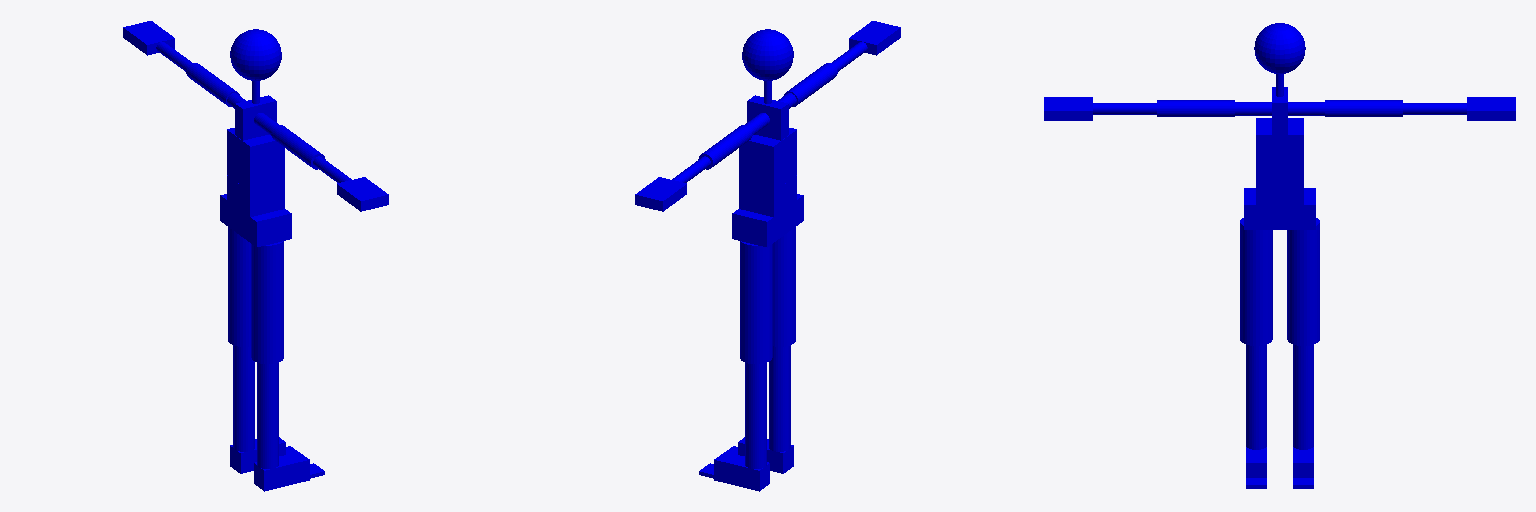
--- What the picture shows (computed from the rendered views, not written in the file) ---
The picture shows the robot from 3 angles, left to right: view 1: azimuth 30°, elevation 25°; view 2: azimuth 150°, elevation 25°; view 3: azimuth 270°, elevation 25°; orthographic projection.
Robot: XSensStyleModel_template — 67 links, 66 joints (66 revolute); root link Pelvis; default pose: all joints at 0.
Visible links, largest first — view 1: RightUpperLeg, LeftUpperLeg, RightLowerLeg, LeftLowerLeg, Head, Pelvis, T12, L5, RightFoot, L3, T8, RightHand (+4 smaller); view 2: LeftUpperLeg, RightUpperLeg, LeftLowerLeg, RightLowerLeg, Head, Pelvis, T12, L5, LeftFoot, L3, T8, LeftHand (+4 smaller); view 3: RightUpperLeg, LeftUpperLeg, Pelvis, RightLowerLeg, LeftLowerLeg, Head, T12, RightUpperArm, LeftUpperArm, L5, RightHand, LeftHand (+6 smaller).
Boxes of the visible links, x1,y1,x2,y2 form: RightUpperLeg: (251,241,283,363); LeftUpperLeg: (228,227,250,346); RightLowerLeg: (257,363,278,468); LeftLowerLeg: (233,345,254,451); Head: (230,29,281,80); Pelvis: (220,194,291,247); T12: (227,128,284,169); L5: (227,175,284,216); RightFoot: (254,452,309,491); L3: (227,153,284,191); T8: (235,95,276,140); RightHand: (337,177,388,211); LeftUpperLeg: (740,241,772,363); RightUpperLeg: (773,227,795,346); LeftLowerLeg: (745,363,766,468); RightLowerLeg: (769,345,790,451); Head: (742,29,793,80); Pelvis: (732,194,803,247); T12: (739,128,796,169); L5: (739,175,796,216); LeftFoot: (714,452,769,491); L3: (739,153,796,191); T8: (747,95,788,140); LeftHand: (635,177,686,211); RightUpperLeg: (1240,218,1272,345); LeftUpperLeg: (1287,218,1319,345); Pelvis: (1244,188,1315,229); RightLowerLeg: (1246,345,1266,449); LeftLowerLeg: (1293,345,1313,449); Head: (1254,23,1305,73); T12: (1256,118,1303,156); RightUpperArm: (1157,100,1234,116); LeftUpperArm: (1325,100,1402,116); L5: (1256,180,1303,204); RightHand: (1044,97,1092,120); LeftHand: (1467,97,1515,120).
Bounding box of the posed robot: 0.2938 × 1.63 × 1.69 m (x, y, z).
Geometry: primitives only (box / cylinder / sphere), no mesh files.

robot.urdf — XSensStyleModel_template:
<!--URDF MODEL 66 DoFs-->

<robot name="XSensStyleModel_template">

<material name="blue">
    <color rgba="0 0 1.0 1"/>
</material>

<!--To open this model with Gazebo replace the null masses, inertias and dimensions of the 'fake links f1 and f2'-->
    <!--LINKS-->
	<!--Link base (1)-->
	<link name="Pelvis">
        <inertial>
            <mass value="4.976"/>
			<!--COM origin wrt pHipOrigin-->
            <origin xyz="0           0    0.049743" rpy="0 0 0" />
            <inertia ixx="0.029678" iyy="0.011854" izz="0.033653" ixy="0" ixz="0" iyz="0"/>
        </inertial>

        <visual>
			<!--box origin wrt pHipOrigin-->
            <origin xyz="0           0    0.049743" rpy="0 0 0" />
            <geometry>
                <box size="0.13815     0.24914    0.097469"/>
            </geometry>
						<material name="blue"/>
        </visual>

        <collision>
			<!--box origin wrt pHipOrigin-->
            <origin xyz="0           0    0.049743" rpy="0 0 0" />
            <geometry>
                <box size="0.13815     0.24914    0.097469"/>
            </geometry>
        </collision>

    </link>
    <!--Chain from (2) to (7)-->
	<link name="L5_f1">
        <inertial>
            <mass value="0"/>
            <origin xyz="0 0 0" rpy="0 0 0" />
            <inertia ixx="0" iyy="0" izz="0" ixy="0" ixz="0" iyz="0"/>
        </inertial>
    </link>
	<link name="L5_f2">
        <inertial>
            <mass value="0"/>
            <origin xyz="0 0 0" rpy="0 0 0" />
            <inertia ixx="0" iyy="0" izz="0" ixy="0" ixz="0" iyz="0"/>
        </inertial>
    </link>
	<link name="L5">
        <inertial>
            <mass value="6.3444"/>
			<!--COM origin wrt jL5S1-->
            <origin xyz="0           0    0.047552" rpy="0 0 0" />
            <inertia ixx="0.018868" iyy="0.014872" izz="0.024177" ixy="0" ixz="0" iyz="0"/>
        </inertial>

        <visual>
			<!--box origin origin wrt jL5S1-->
            <origin xyz="0           0    0.047552" rpy="0 0 0" />
            <geometry>
                <box size="0.13815     0.16323    0.095104"/>
            </geometry>
						<material name="blue"/>
        </visual>

        <collision>
			<!--box origin origin wrt jL5S1-->
            <origin xyz="0           0    0.047552" rpy="0 0 0" />
            <geometry>
                <box size="0.13815     0.16323    0.095104"/>
            </geometry>
        </collision>
    </link>
	<link name="L3_f1">
        <inertial>
            <mass value="0"/>
            <origin xyz="0 0 0" rpy="0 0 0" />
            <inertia ixx="0" iyy="0" izz="0" ixy="0" ixz="0" iyz="0"/>
        </inertial>
    </link>
	<link name="L3_f2">
        <inertial>
            <mass value="0"/>
            <origin xyz="0 0 0" rpy="0 0 0" />
            <inertia ixx="0" iyy="0" izz="0" ixy="0" ixz="0" iyz="0"/>
        </inertial>
    </link>
	<link name="L3">
        <inertial>
            <mass value="6.3444"/>
			<!--COM origin wrt jL4L3-->
            <origin xyz="0           0    0.042958" rpy="0 0 0" />
            <inertia ixx="0.017989" iyy="0.013993" izz="0.024177" ixy="0" ixz="0" iyz="0"/>
        </inertial>

        <visual>
			<!--box origin origin wrt jL4L3-->
            <origin xyz="0           0    0.042958" rpy="0 0 0" />
            <geometry>
                <box size="0.13815     0.16323    0.085916"/>
            </geometry>
						<material name="blue"/>
        </visual>

        <collision>
			<!--box origin origin wrt jL4L3-->
            <origin xyz="0           0    0.042958" rpy="0 0 0" />
            <geometry>
                <box size="0.13815     0.16323    0.085916"/>
            </geometry>
        </collision>
    </link>
	<link name="T12_f1">
        <inertial>
            <mass value="0"/>
            <origin xyz="0 0 0" rpy="0 0 0" />
            <inertia ixx="0" iyy="0" izz="0" ixy="0" ixz="0" iyz="0"/>
        </inertial>
    </link>
	<link name="T12_f2">
        <inertial>
            <mass value="0"/>
            <origin xyz="0 0 0" rpy="0 0 0" />
            <inertia ixx="0" iyy="0" izz="0" ixy="0" ixz="0" iyz="0"/>
        </inertial>
    </link>
	<link name="T12">
        <inertial>
            <mass value="6.3444"/>
			<!--COM origin wrt jL1T12-->
            <origin xyz="0           0    0.042958" rpy="0 0 0" />
            <inertia ixx="0.017989" iyy="0.013993" izz="0.024177" ixy="0" ixz="0" iyz="0"/>
        </inertial>

        <visual>
			<!--box origin origin wrt jL1T12-->
            <origin xyz="0           0    0.042958" rpy="0 0 0" />
            <geometry>
                <box size="0.13815     0.16323    0.085916"/>
            </geometry>
						<material name="blue"/>
        </visual>

        <collision>
			<!--box origin origin wrt jL1T12-->
            <origin xyz="0           0    0.042958" rpy="0 0 0" />
            <geometry>
                <box size="0.13815     0.16323    0.085916"/>
            </geometry>
        </collision>
    </link>
	<link name="T8_f1">
        <inertial>
            <mass value="0"/>
            <origin xyz="0 0 0" rpy="0 0 0" />
            <inertia ixx="0" iyy="0" izz="0" ixy="0" ixz="0" iyz="0"/>
        </inertial>
    </link>
	<link name="T8_f2">
        <inertial>
            <mass value="0"/>
            <origin xyz="0 0 0" rpy="0 0 0" />
            <inertia ixx="0" iyy="0" izz="0" ixy="0" ixz="0" iyz="0"/>
        </inertial>
    </link>
	<link name="T8">
        <inertial>
            <mass value="2.488"/>
			<!--COM origin wrt jT9T8-->
            <origin xyz="0           0    0.059874" rpy="0 0 0" />
            <inertia ixx="0.0035473" iyy="0.0067278" izz="0.0043289" ixy="0" ixz="0" iyz="0"/>
        </inertial>

        <visual>
			<!--box origin wrt jT9T8-->
            <origin xyz="0           0    0.059874" rpy="0 0 0" />
            <geometry>
                <box size="0.13457    0.052626     0.11975"/>
            </geometry>
						<material name="blue"/>
        </visual>

        <collision>
			<!--box origin wrt jT9T8-->
            <origin xyz="0           0    0.059874" rpy="0 0 0" />
            <geometry>
                <box size="0.13457    0.052626     0.11975"/>
            </geometry>
        </collision>

    </link>
	<link name="Neck_f1">
        <inertial>
            <mass value="0"/>
            <origin xyz="0 0 0" rpy="0 0 0" />
            <inertia ixx="0" iyy="0" izz="0" ixy="0" ixz="0" iyz="0"/>
        </inertial>
    </link>
	<link name="Neck_f2">
        <inertial>
            <mass value="0"/>
            <origin xyz="0 0 0" rpy="0 0 0" />
            <inertia ixx="0" iyy="0" izz="0" ixy="0" ixz="0" iyz="0"/>
        </inertial>
    </link>
	<link name="Neck">
        <inertial>
            <mass value="0.7464"/>
			<!--COM origin wrt jT1C7-->
            <origin xyz="0           0    0.044626" rpy="0 0 0" />
            <inertia ixx="0.0006461" iyy="0.0006461" izz="0.00030124" ixy="0" ixz="0" iyz="0"/>
        </inertial>

        <visual>
			<!--box origin wrt jT1C7-->
            <origin xyz="0           0    0.044626" rpy="0 0 0" />
            <geometry>
		<cylinder length="0.089252" radius="0.014205"/>
            </geometry>
						<material name="blue"/>
        </visual>

        <collision>
			<!--box origin wrt jT1C7-->
            <origin xyz="0           0    0.044626" rpy="0 0 0" />
            <geometry>
                <cylinder length="0.089252" radius="0.014205"/>
            </geometry>
        </collision>
    </link>
	<link name="Head_f1">
        <inertial>
            <mass value="0"/>
            <origin xyz="0 0 0" rpy="0 0 0" />
            <inertia ixx="0" iyy="0" izz="0" ixy="0" ixz="0" iyz="0"/>
        </inertial>
    </link>
	<link name="Head_f2">
        <inertial>
            <mass value="0"/>
            <origin xyz="0 0 0" rpy="0 0 0" />
            <inertia ixx="0" iyy="0" izz="0" ixy="0" ixz="0" iyz="0"/>
        </inertial>
    </link>
	<link name="Head">
        <inertial>
            <mass value="2.2392"/>
			<!--COM origin wrt jC1Head-->
            <origin xyz="0           0    0.089005" rpy="0 0 0" />
            <inertia ixx="0.0070955" iyy="0.0070955" izz="0.0070955" ixy="0" ixz="0" iyz="0"/>
        </inertial>

        <visual>
			<!--boc origin wrt jC1Head-->
            <origin xyz="0           0    0.089005" rpy="0 0 0" />
            <geometry>
                <sphere radius="0.089005"/>
            </geometry>
						<material name="blue"/>
        </visual>

        <collision>
			<!--box origin wrt jC1Head-->
            <origin xyz="0           0    0.089005" rpy="0 0 0" />
            <geometry>
                <sphere radius="0.089005"/>
            </geometry>
        </collision>

    </link>
	<!--Chain from (8) to (11)-->
	<link name="RightShoulder_f1">
        <inertial>
            <mass value="0"/>
            <origin xyz="0 0 0" rpy="0 0 0" />
            <inertia ixx="0" iyy="0" izz="0" ixy="0" ixz="0" iyz="0"/>
        </inertial>
    </link>
	<link name="RightShoulder_f2">
        <inertial>
            <mass value="0"/>
            <origin xyz="0 0 0" rpy="0 0 0" />
            <inertia ixx="0" iyy="0" izz="0" ixy="0" ixz="0" iyz="0"/>
        </inertial>
    </link>
	<link name="RightShoulder">
        <inertial>
            <mass value="1.9282"/>
			<!--COM origin wrt jRightC7Shoulder-->
            <origin xyz="0   -0.065233           0" rpy="0 0 0" />
            <inertia ixx="0.0030029" iyy="0.00053578" izz="0.0030029" ixy="0" ixz="0" iyz="0"/>
        </inertial>

        <visual>
			<!--box origin wrt jRightC7Shoulder. RPY rotated of pi/2.-->
            <origin xyz="0   -0.065233           0" rpy="1.5708 0 0" />
            <geometry>
                <cylinder length="0.13047" radius="0.023574"/>
            </geometry>
						<material name="blue"/>
        </visual>

        <collision>
			<!--box origin wrt jRightC7Shoulder. RPY rotated of pi/2.-->
            <origin xyz="0   -0.065233           0" rpy="1.5708 0 0" />
            <geometry>
                <cylinder length="0.13047" radius="0.023574"/>
            </geometry>
        </collision>

    </link>
	<link name="RightUpperArm_f1">
        <inertial>
            <mass value="0"/>
            <origin xyz="0 0 0" rpy="0 0 0" />
            <inertia ixx="0" iyy="0" izz="0" ixy="0" ixz="0" iyz="0"/>
        </inertial>
    </link>
	<link name="RightUpperArm_f2">
        <inertial>
            <mass value="0"/>
            <origin xyz="0 0 0" rpy="0 0 0" />
            <inertia ixx="0" iyy="0" izz="0" ixy="0" ixz="0" iyz="0"/>
        </inertial>
    </link>
    <link name="RightUpperArm">
        <inertial>
            <mass value="1.866"/>
			<!--COM origin wrt jRightShoulder-->
            <origin xyz="0    -0.13497           0" rpy="0 0 0" />
            <inertia ixx="0.011736" iyy="0.00080917" izz="0.011736" ixy="0" ixz="0" iyz="0"/>
        </inertial>

        <visual>
			<!--box origin wrt jRightShoulder. RPY rotated of pi/2.-->
            <origin xyz="0    -0.13497           0" rpy="1.5708 0 0" />
            <geometry>
                <cylinder length="0.26994" radius="0.029449"/>
            </geometry>
						<material name="blue"/>
        </visual>

        <collision>
			<!--box origin wrt jRightShoulder. RPY rotated of pi/2.-->
            <origin xyz="0    -0.13497           0" rpy="1.5708 0 0" />
            <geometry>
                <cylinder length="0.26994" radius="0.029449"/>
            </geometry>
        </collision>

    </link>
	<link name="RightForeArm_f1">
        <inertial>
            <mass value="0"/>
            <origin xyz="0 0 0" rpy="0 0 0" />
            <inertia ixx="0" iyy="0" izz="0" ixy="0" ixz="0" iyz="0"/>
        </inertial>
    </link>
	<link name="RightForeArm_f2">
        <inertial>
            <mass value="0"/>
            <origin xyz="0 0 0" rpy="0 0 0" />
            <inertia ixx="0" iyy="0" izz="0" ixy="0" ixz="0" iyz="0"/>
        </inertial>
    </link>
	<link name="RightForeArm">
        <inertial>
            <mass value="1.244"/>
			<!--COM origin wrt jRightElbow-->
            <origin xyz="0    -0.11124           0" rpy="0 0 0" />
            <inertia ixx="0.0052508" iyy="0.00023975" izz="0.0052508" ixy="0" ixz="0" iyz="0"/>
        </inertial>

        <visual>
			<!--box origin wrt jRightElbow. RPY rotated of pi/2.-->
            <origin xyz="0    -0.11124           0" rpy="1.5708 0 0" />
            <geometry>
                <cylinder length="0.22247" radius="0.019633"/>
            </geometry>
						<material name="blue"/>
        </visual>

        <collision>
			<!--box origin wrt jRightElbow. RPY rotated of pi/2.-->
            <origin xyz="0    -0.11124           0" rpy="1.5708 0 0" />
            <geometry>
                <cylinder length="0.22247" radius="0.019633"/>
            </geometry>
        </collision>

    </link>
	<link name="RightHand_f1">
        <inertial>
            <mass value="0"/>
            <origin xyz="0 0 0" rpy="0 0 0" />
            <inertia ixx="0" iyy="0" izz="0" ixy="0" ixz="0" iyz="0"/>
        </inertial>
    </link>
	<link name="RightHand_f2">
        <inertial>
            <mass value="0"/>
            <origin xyz="0 0 0" rpy="0 0 0" />
            <inertia ixx="0" iyy="0" izz="0" ixy="0" ixz="0" iyz="0"/>
        </inertial>
    </link>
	<link name="RightHand">
        <inertial>
            <mass value="0.3732"/>
			<!--COM origin wrt jRightWrist-->
            <origin xyz="0   -0.083588           0" rpy="0 0 0" />
            <inertia ixx="0.00091713" iyy="0.00043425" izz="0.0012555" ixy="0" ixz="0" iyz="0"/>
        </inertial>

        <visual>
			<!--box origin wrt jRightWrist-->
            <origin xyz="0   -0.083588           0" rpy="0 0 0" />
            <geometry>
                <box size="0.11145     0.16718    0.039266"/>
            </geometry>
						<material name="blue"/>
        </visual>

        <collision>
			<!--box origin wrt jRightWrist-->
            <origin xyz="0   -0.083588           0" rpy="0 0 0" />
            <geometry>
                <box size="0.11145     0.16718    0.039266"/>
            </geometry>
        </collision>

    </link>
	<!--Chain from (12) to (15)-->
	<link name="LeftShoulder_f1">
        <inertial>
            <mass value="0"/>
            <origin xyz="0 0 0" rpy="0 0 0" />
            <inertia ixx="0" iyy="0" izz="0" ixy="0" ixz="0" iyz="0"/>
        </inertial>
    </link>
	<link name="LeftShoulder_f2">
        <inertial>
            <mass value="0"/>
            <origin xyz="0 0 0" rpy="0 0 0" />
            <inertia ixx="0" iyy="0" izz="0" ixy="0" ixz="0" iyz="0"/>
        </inertial>
    </link>
	<link name="LeftShoulder">
        <inertial>
            <mass value="1.9282"/>
			<!--COM origin wrt jLeftC7Shoulder-->
            <origin xyz="0    0.065233           0" rpy="0 0 0" />
            <inertia ixx="0.0030029" iyy="0.00053578" izz="0.0030029" ixy="0" ixz="0" iyz="0"/>
        </inertial>

        <visual>
			<!--box origin wrt jLeftC7Shoulder. RPY rotated of pi/2.-->
            <origin xyz="0    0.065233           0" rpy="1.5708 0 0" />
            <geometry>
                <cylinder length="0.13047" radius="0.023574"/>
            </geometry>
						<material name="blue"/>
        </visual>

        <collision>
			<!--box origin wrt jLeftC7Shoulder. RPY rotated of pi/2.-->
            <origin xyz="0    0.065233           0" rpy="1.5708 0 0" />
            <geometry>
                <cylinder length="0.13047" radius="0.023574"/>
            </geometry>
        </collision>

    </link>
	<link name="LeftUpperArm_f1">
        <inertial>
            <mass value="0"/>
            <origin xyz="0 0 0" rpy="0 0 0" />
            <inertia ixx="0" iyy="0" izz="0" ixy="0" ixz="0" iyz="0"/>
        </inertial>
    </link>
	<link name="LeftUpperArm_f2">
        <inertial>
            <mass value="0"/>
            <origin xyz="0 0 0" rpy="0 0 0" />
            <inertia ixx="0" iyy="0" izz="0" ixy="0" ixz="0" iyz="0"/>
        </inertial>
    </link>
	<link name="LeftUpperArm">
        <inertial>
            <mass value="1.866"/>
			<!--COM origin wrt jLeftShoulder-->
            <origin xyz="0     0.13497           0" rpy="0 0 0" />
            <inertia ixx="0.011736" iyy="0.00080917" izz="0.011736" ixy="0" ixz="0" iyz="0"/>
        </inertial>

        <visual>
			<!--box origin wrt jLeftShoulder. RPY rotated of pi/2.-->
            <origin xyz="0     0.13497           0" rpy="1.5708 0 0" />
            <geometry>
                <cylinder length="0.26994" radius="0.029449"/>
            </geometry>
						<material name="blue"/>
        </visual>

        <collision>
			<!--box origin wrt jLeftShoulder. RPY rotated of pi/2.-->
            <origin xyz="0     0.13497           0" rpy="1.5708 0 0" />
            <geometry>
                <cylinder length="0.26994" radius="0.029449"/>
            </geometry>
        </collision>

    </link>
	<link name="LeftForeArm_f1">
        <inertial>
            <mass value="0"/>
            <origin xyz="0 0 0" rpy="0 0 0" />
            <inertia ixx="0" iyy="0" izz="0" ixy="0" ixz="0" iyz="0"/>
        </inertial>
    </link>
	<link name="LeftForeArm_f2">
        <inertial>
            <mass value="0"/>
            <origin xyz="0 0 0" rpy="0 0 0" />
            <inertia ixx="0" iyy="0" izz="0" ixy="0" ixz="0" iyz="0"/>
        </inertial>
    </link>
	<link name="LeftForeArm">
        <inertial>
            <mass value="1.244"/>
			<!--COM origin wrt jLeftElbow-->
            <origin xyz="0     0.11124           0" rpy="0 0 0" />
            <inertia ixx="0.0052508" iyy="0.00023975" izz="0.0052508" ixy="0" ixz="0" iyz="0"/>
        </inertial>

        <visual>
			<!--box origin wrt jLeftElbow. RPY rotated of pi/2.-->
            <origin xyz="0     0.11124           0" rpy="1.5708 0 0" />
            <geometry>
                <cylinder length="0.22247" radius="0.019633"/>
            </geometry>
						<material name="blue"/>
        </visual>

        <collision>
			<!--box origin wrt jLeftElbow. RPY rotated of pi/2.-->
            <origin xyz="0     0.11124           0" rpy="1.5708 0 0" />
            <geometry>
                <cylinder length="0.22247" radius="0.019633"/>
            </geometry>
        </collision>

    </link>
	<link name="LeftHand_f1">
        <inertial>
            <mass value="0"/>
            <origin xyz="0 0 0" rpy="0 0 0" />
            <inertia ixx="0" iyy="0" izz="0" ixy="0" ixz="0" iyz="0"/>
        </inertial>
    </link>
	<link name="LeftHand_f2">
        <inertial>
            <mass value="0"/>
            <origin xyz="0 0 0" rpy="0 0 0" />
            <inertia ixx="0" iyy="0" izz="0" ixy="0" ixz="0" iyz="0"/>
        </inertial>
    </link>
	<link name="LeftHand">
        <inertial>
            <mass value="0.3732"/>
			<!--COM origin wrt jLeftWrist-->
            <origin xyz="0    0.083588           0" rpy="0 0 0" />
            <inertia ixx="0.00091713" iyy="0.00043425" izz="0.0012555" ixy="0" ixz="0" iyz="0"/>
        </inertial>

        <visual>
			<!--COM origin wrt jLeftWrist-->
            <origin xyz="0    0.083588           0" rpy="0 0 0" />
            <geometry>
                <box size="0.11145     0.16718    0.039266"/>
            </geometry>
						<material name="blue"/>
        </visual>

        <collision>
			<!--COM origin wrt jLeftWrist-->
            <origin xyz="0    0.083588           0" rpy="0 0 0" />
            <geometry>
                <box size="0.11145     0.16718    0.039266"/>
            </geometry>
        </collision>

    </link>
	<!--Chain from (16) to (19)-->
	<link name="RightUpperLeg_f1">
        <inertial>
            <mass value="0"/>
            <origin xyz="0 0 0" rpy="0 0 0" />
            <inertia ixx="0" iyy="0" izz="0" ixy="0" ixz="0" iyz="0"/>
        </inertial>
    </link>
	<link name="RightUpperLeg_f2">
        <inertial>
            <mass value="0"/>
            <origin xyz="0 0 0" rpy="0 0 0" />
            <inertia ixx="0" iyy="0" izz="0" ixy="0" ixz="0" iyz="0"/>
        </inertial>
    </link>
    <link name="RightUpperLeg">
        <inertial>
            <mass value="7.775"/>
			<!--COM origin wrt jRightHip-->
            <origin xyz="0           0    -0.22449" rpy="0 0 0" />
            <inertia ixx="0.13681" iyy="0.13681" izz="0.01241" ixy="0" ixz="0" iyz="0"/>
        </inertial>

        <visual>
			<!--box origin wrt jRightHip-->
            <origin xyz="0           0    -0.22449" rpy="0 0 0" />
            <geometry>
                <cylinder length="0.44898" radius="0.0565"/>
            </geometry>
						<material name="blue"/>
        </visual>

        <collision>
			<!--box origin wrt jRightHip-->
            <origin xyz="0           0    -0.22449" rpy="0 0 0" />
            <geometry>
                <cylinder length="0.44898" radius="0.0565"/>
            </geometry>
        </collision>

    </link>
	<link name="RightLowerLeg_f1">
        <inertial>
            <mass value="0"/>
            <origin xyz="0 0 0" rpy="0 0 0" />
            <inertia ixx="0" iyy="0" izz="0" ixy="0" ixz="0" iyz="0"/>
        </inertial>
    </link>
	<link name="RightLowerLeg_f2">
        <inertial>
            <mass value="0"/>
            <origin xyz="0 0 0" rpy="0 0 0" />
            <inertia ixx="0" iyy="0" izz="0" ixy="0" ixz="0" iyz="0"/>
        </inertial>
    </link>
    <link name="RightLowerLeg">
        <inertial>
            <mass value="2.2703"/>
			<!--COM origin wrt jRightKnee-->
            <origin xyz="0           0    -0.20304" rpy="0 0 0" />
            <inertia ixx="0.031992" iyy="0.031992" izz="0.0015867" ixy="0" ixz="0" iyz="0"/>
        </inertial>

        <visual>
			<!--box origin wrt jRightKnee-->
            <origin xyz="0           0    -0.20304" rpy="0 0 0" />
            <geometry>
                <cylinder length="0.40608" radius="0.037388"/>
            </geometry>
						<material name="blue"/>
        </visual>

        <collision>
			<!--box origin wrt jRightKnee-->
            <origin xyz="0           0    -0.20304" rpy="0 0 0" />
            <geometry>
                <cylinder length="0.40608" radius="0.037388"/>
            </geometry>
        </collision>

    </link>
	<link name="RightFoot_f1">
        <inertial>
            <mass value="0"/>
            <origin xyz="0 0 0" rpy="0 0 0" />
            <inertia ixx="0" iyy="0" izz="0" ixy="0" ixz="0" iyz="0"/>
        </inertial>
    </link>
	<link name="RightFoot_f2">
        <inertial>
            <mass value="0"/>
            <origin xyz="0 0 0" rpy="0 0 0" />
            <inertia ixx="0" iyy="0" izz="0" ixy="0" ixz="0" iyz="0"/>
        </inertial>
    </link>
    <link name="RightFoot">
        <inertial>
            <mass value="0.8086"/>
			<!--COM origin wrt jRightAnkle-->
            <origin xyz="0.054652           0   -0.039254" rpy="0 0 0" />
            <inertia ixx="0.00079209" iyy="0.0025944" izz="0.0025558" ixy="0" ixz="0" iyz="0"/>
        </inertial>

        <visual>
			<!--box origin wrt jRightAnkle-->
	    	<origin xyz="0.054652           0   -0.039254" rpy="0 0 0" />
            <geometry>
                <box size="0.17983    0.074775    0.078509"/>
            </geometry>
						<material name="blue"/>
        </visual>

        <collision>
			<!--box origin wrt jRightAnkle-->
		    <origin xyz="0.054652           0   -0.039254" rpy="0 0 0" />
	            <geometry>
	                <box size="0.17983    0.074775    0.078509"/>
	            </geometry>
        </collision>

    </link>
	<link name="RightToe_f1">
        <inertial>
            <mass value="0"/>
            <origin xyz="0 0 0" rpy="0 0 0" />
            <inertia ixx="0" iyy="0" izz="0" ixy="0" ixz="0" iyz="0"/>
        </inertial>
    </link>
	<link name="RightToe_f2">
        <inertial>
            <mass value="0"/>
            <origin xyz="0 0 0" rpy="0 0 0" />
            <inertia ixx="0" iyy="0" izz="0" ixy="0" ixz="0" iyz="0"/>
        </inertial>
    </link>
    <link name="RightToe">
        <inertial>
            <mass value="0.0933"/>
			<!--COM origin wrt jRightBallFoot-->
            <origin xyz="0.030086           0           0" rpy="0 0 0" />
            <inertia ixx="4.5038e-05" iyy="2.9717e-05" izz="7.1624e-05" ixy="0" ixz="0" iyz="0"/>
        </inertial>

        <visual>
			<!--box origin wrt jRightBallFoot-->
            <origin xyz="0.030086           0           0" rpy="0 0 0" />
            <geometry>
                <box size="0.060173    0.074775    0.014191"/>
            </geometry>
						<material name="blue"/>
        </visual>

        <collision>
			<!--box origin wrt jRightBallFoot-->
            <origin xyz="0.030086           0           0" rpy="0 0 0" />
            <geometry>
                <box size="0.060173    0.074775    0.014191"/>
            </geometry>
        </collision>
    </link>
	<!--Chain from (20) to (23)-->
	<link name="LeftUpperLeg_f1">
        <inertial>
            <mass value="0"/>
            <origin xyz="0 0 0" rpy="0 0 0" />
            <inertia ixx="0" iyy="0" izz="0" ixy="0" ixz="0" iyz="0"/>
        </inertial>
    </link>
	<link name="LeftUpperLeg_f2">
        <inertial>
            <mass value="0"/>
            <origin xyz="0 0 0" rpy="0 0 0" />
            <inertia ixx="0" iyy="0" izz="0" ixy="0" ixz="0" iyz="0"/>
        </inertial>
    </link>
    <link name="LeftUpperLeg">
        <inertial>
            <mass value="7.775"/>
			<!--COM origin wrt jLeftHip-->
            <origin xyz="0           0    -0.22449" rpy="0 0 0" />
            <inertia ixx="0.13681" iyy="0.13681" izz="0.01241" ixy="0" ixz="0" iyz="0"/>
        </inertial>

        <visual>
			<!--box origin wrt jLeftHip-->
            <origin xyz="0           0    -0.22449" rpy="0 0 0" />
            <geometry>
                <cylinder length="0.44898" radius="0.0565"/>
            </geometry>
						<material name="blue"/>
        </visual>

        <collision>
			<!--box origin wrt jLeftHip-->
            <origin xyz="0           0    -0.22449" rpy="0 0 0" />
            <geometry>
                <cylinder length="0.44898" radius="0.0565"/>
            </geometry>
        </collision>

    </link>
	<link name="LeftLowerLeg_f1">
        <inertial>
            <mass value="0"/>
            <origin xyz="0 0 0" rpy="0 0 0" />
            <inertia ixx="0" iyy="0" izz="0" ixy="0" ixz="0" iyz="0"/>
        </inertial>
    </link>
	<link name="LeftLowerLeg_f2">
        <inertial>
            <mass value="0"/>
            <origin xyz="0 0 0" rpy="0 0 0" />
            <inertia ixx="0" iyy="0" izz="0" ixy="0" ixz="0" iyz="0"/>
        </inertial>
    </link>
	<link name="LeftLowerLeg">
        <inertial>
            <mass value="2.2703"/>
			<!--COM origin wrt jLeftKnee-->
            <origin xyz="0           0    -0.20304" rpy="0 0 0" />
            <inertia ixx="0.031992" iyy="0.031992" izz="0.0015867" ixy="0" ixz="0" iyz="0"/>
        </inertial>

        <visual>
			<!--box origin wrt jLeftKnee-->
            <origin xyz="0           0    -0.20304" rpy="0 0 0" />
            <geometry>
		<cylinder length="0.40608" radius="0.037388"/>
            </geometry>
						<material name="blue"/>
        </visual>

        <collision>
			<!--box origin wrt jLeftKnee-->
            <origin xyz="0           0    -0.20304" rpy="0 0 0" />
            <geometry>
		<cylinder length="0.40608" radius="0.037388"/>
            </geometry>
        </collision>

    </link>
	<link name="LeftFoot_f1">
        <inertial>
            <mass value="0"/>
            <origin xyz="0 0 0" rpy="0 0 0" />
            <inertia ixx="0" iyy="0" izz="0" ixy="0" ixz="0" iyz="0"/>
        </inertial>
    </link>
	<link name="LeftFoot_f2">
        <inertial>
            <mass value="0"/>
            <origin xyz="0 0 0" rpy="0 0 0" />
            <inertia ixx="0" iyy="0" izz="0" ixy="0" ixz="0" iyz="0"/>
        </inertial>
    </link>
    <link name="LeftFoot">
        <inertial>
            <mass value="0.8086"/>
			<!--COM origin wrt jLeftAnkle-->
            <origin xyz="0.054652           0   -0.039254" rpy="0 0 0" />
            <inertia ixx="0.00079209" iyy="0.0025944" izz="0.0025558" ixy="0" ixz="0" iyz="0"/>
        </inertial>

        <visual>
			<!--box origin wrt jLeftAnkle-->
	   	 	<origin xyz="0.054652           0   -0.039254" rpy="0 0 0" />
            <geometry>
                <box size="0.17983    0.074775    0.078509"/>
            </geometry>
						<material name="blue"/>
        </visual>

        <collision>
			<!--box origin wrt jLeftAnkle-->
		    <origin xyz="0.054652           0   -0.039254" rpy="0 0 0" />
	            <geometry>
	                <box size="0.17983    0.074775    0.078509"/>
	            </geometry>
        </collision>

    </link>
	<link name="LeftToe_f1">
        <inertial>
            <mass value="0"/>
            <origin xyz="0 0 0" rpy="0 0 0" />
            <inertia ixx="0" iyy="0" izz="0" ixy="0" ixz="0" iyz="0"/>
        </inertial>
    </link>
	<link name="LeftToe_f2">
        <inertial>
            <mass value="0"/>
            <origin xyz="0 0 0" rpy="0 0 0" />
            <inertia ixx="0" iyy="0" izz="0" ixy="0" ixz="0" iyz="0"/>
        </inertial>
    </link>
	<link name="LeftToe">
        <inertial>
            <mass value="0.0933"/>
			<!--COM origin wrt jLeftBallFoot-->
            <origin xyz="0.030086           0           0" rpy="0 0 0" />
            <inertia ixx="4.5038e-05" iyy="2.9717e-05" izz="7.1624e-05" ixy="0" ixz="0" iyz="0"/>
        </inertial>

        <visual>
			<!--box origin wrt jLeftBallFoot-->
            <origin xyz="0.030086           0           0" rpy="0 0 0" />
            <geometry>
                <box size="0.060173    0.074775    0.014191"/>
            </geometry>
						<material name="blue"/>
        </visual>

        <collision>
			<!--box origin wrt jLeftBallFoot-->
            <origin xyz="0.030086           0           0" rpy="0 0 0" />
            <geometry>
                <box size="0.060173    0.074775    0.014191"/>
            </geometry>
        </collision>
    </link>


	<!--JOINTS-->
	<!--Chain from (2) to (7)-->
	<joint name="jL5S1_rotx" type="revolute">
        <origin xyz="-0.000206           0    0.098478" rpy="0 0 0"/>
        <parent link="Pelvis"/>
        <child link="L5_f1"/>
        <dynamics damping="0.1" friction="0.0"/>
        <limit effort="30" velocity="1.0" lower="-10.0" upper="10.0" />
        <axis xyz="1 0 0" />
    </joint>
	<joint name="jL5S1_roty" type="revolute">
        <origin xyz="0 0 0" rpy="0 0 0"/>
        <parent link="L5_f1"/>
        <child link="L5_f2"/>
        <dynamics damping="0.1" friction="0.0"/>
        <limit effort="30" velocity="1.0" lower="-10.0" upper="10.0" />
        <axis xyz="0 1 0" />
    </joint>
    <joint name="jL5S1_rotz" type="revolute">
        <origin xyz="0 0 0" rpy="0 0 0"/>
        <parent link="L5_f2"/>
        <child link="L5"/>
        <dynamics damping="0.1" friction="0.0"/>
        <limit effort="30" velocity="1.0" lower="-10.0" upper="10.0" />
        <axis xyz="0 0 1" />
    </joint>
	<joint name="jL4L3_rotx" type="revolute">
        <origin xyz="0.000374           0    0.095104" rpy="0 0 0"/>
        <parent link="L5"/>
        <child link="L3_f1"/>
        <dynamics damping="0.1" friction="0.0"/>
        <limit effort="30" velocity="1.0" lower="-10.0" upper="10.0" />
        <axis xyz="1 0 0" />
    </joint>
	<joint name="jL4L3_roty" type="revolute">
        <origin xyz="0 0 0" rpy="0 0 0"/>
        <parent link="L3_f1"/>
        <child link="L3_f2"/>
        <dynamics damping="0.1" friction="0.0"/>
        <limit effort="30" velocity="1.0" lower="-10.0" upper="10.0" />
        <axis xyz="0 1 0" />
    </joint>
    <joint name="jL4L3_rotz" type="revolute">
        <origin xyz="0 0 0" rpy="0 0 0"/>
        <parent link="L3_f2"/>
        <child link="L3"/>
        <dynamics damping="0.1" friction="0.0"/>
        <limit effort="30" velocity="1.0" lower="-10.0" upper="10.0" />
        <axis xyz="0 0 1" />
    </joint>
	<joint name="jL1T12_rotx" type="revolute">
        <origin xyz="0           0    0.085916" rpy="0 0 0"/>
        <parent link="L3"/>
        <child link="T12_f1"/>
        <dynamics damping="0.1" friction="0.0"/>
        <limit effort="30" velocity="1.0" lower="-10.0" upper="10.0" />
        <axis xyz="1 0 0" />
    </joint>
	<joint name="jL1T12_roty" type="revolute">
        <origin xyz="0 0 0" rpy="0 0 0"/>
        <parent link="T12_f1"/>
        <child link="T12_f2"/>
        <dynamics damping="0.1" friction="0.0"/>
        <limit effort="30" velocity="1.0" lower="-10.0" upper="10.0" />
        <axis xyz="0 1 0" />
    </joint>
    <joint name="jL1T12_rotz" type="revolute">
        <origin xyz="0 0 0" rpy="0 0 0"/>
        <parent link="T12_f2"/>
        <child link="T12"/>
        <dynamics damping="0.1" friction="0.0"/>
        <limit effort="30" velocity="1.0" lower="-10.0" upper="10.0" />
        <axis xyz="0 0 1" />
    </joint>
	<joint name="jT9T8_rotx" type="revolute">
        <origin xyz="0           0    0.085916" rpy="0 0 0"/>
        <parent link="T12"/>
        <child link="T8_f1"/>
        <dynamics damping="0.1" friction="0.0"/>
        <limit effort="30" velocity="1.0" lower="-10.0" upper="10.0" />
        <axis xyz="1 0 0" />
    </joint>
	<joint name="jT9T8_roty" type="revolute">
        <origin xyz="0 0 0" rpy="0 0 0"/>
        <parent link="T8_f1"/>
        <child link="T8_f2"/>
        <dynamics damping="0.1" friction="0.0"/>
        <limit effort="30" velocity="1.0" lower="-10.0" upper="10.0" />
        <axis xyz="0 1 0" />
    </joint>
    <joint name="jT9T8_rotz" type="revolute">
        <origin xyz="0 0 0" rpy="0 0 0"/>
        <parent link="T8_f2"/>
        <child link="T8"/>
        <dynamics damping="0.1" friction="0.0"/>
        <limit effort="30" velocity="1.0" lower="-10.0" upper="10.0" />
        <axis xyz="0 0 1" />
    </joint>
	<joint name="jT1C7_rotx" type="revolute">
        <origin xyz="0           0     0.11975" rpy="0 0 0"/>
        <parent link="T8"/>
        <child link="Neck_f1"/>
        <dynamics damping="0.1" friction="0.0"/>
        <limit effort="30" velocity="1.0" lower="-10.0" upper="10.0" />
        <axis xyz="1 0 0" />
    </joint>
	<joint name="jT1C7_roty" type="revolute">
        <origin xyz="0 0 0" rpy="0 0 0"/>
        <parent link="Neck_f1"/>
        <child link="Neck_f2"/>
        <dynamics damping="0.1" friction="0.0"/>
        <limit effort="30" velocity="1.0" lower="-10.0" upper="10.0" />
        <axis xyz="0 1 0" />
    </joint>
    <joint name="jT1C7_rotz" type="revolute">
        <origin xyz="0 0 0" rpy="0 0 0"/>
        <parent link="Neck_f2"/>
        <child link="Neck"/>
        <dynamics damping="0.1" friction="0.0"/>
        <limit effort="30" velocity="1.0" lower="-10.0" upper="10.0" />
        <axis xyz="0 0 1" />
    </joint>
	<joint name="jC1Head_rotx" type="revolute">
        <origin xyz="0.000152           0    0.089252" rpy="0 0 0"/>
        <parent link="Neck"/>
        <child link="Head_f1"/>
        <dynamics damping="0.1" friction="0.0"/>
        <limit effort="30" velocity="1.0" lower="-10.0" upper="10.0" />
        <axis xyz="1 0 0" />
    </joint>
	<joint name="jC1Head_roty" type="revolute">
        <origin xyz="0 0 0" rpy="0 0 0"/>
        <parent link="Head_f1"/>
        <child link="Head_f2"/>
        <dynamics damping="0.1" friction="0.0"/>
        <limit effort="30" velocity="1.0" lower="-10.0" upper="10.0" />
        <axis xyz="0 1 0" />
    </joint>
    <joint name="jC1Head_rotz" type="revolute">
        <origin xyz="0 0 0" rpy="0 0 0"/>
        <parent link="Head_f2"/>
        <child link="Head"/>
        <dynamics damping="0.1" friction="0.0"/>
        <limit effort="30" velocity="1.0" lower="-10.0" upper="10.0" />
        <axis xyz="0 0 1" />
    </joint>
	<!--Chain from (8) to (11)-->
	<joint name="jRightC7Shoulder_rotx" type="revolute">
        <origin xyz="0   -0.026313    0.067052" rpy="0 0 0"/>
        <parent link="T8"/>
        <child link="RightShoulder_f1"/>
        <dynamics damping="0.1" friction="0.0"/>
        <limit effort="30" velocity="1.0" lower="-10.0" upper="10.0" />
        <axis xyz="1 0 0" />
    </joint>
	<joint name="jRightC7Shoulder_roty" type="revolute">
        <origin xyz="0 0 0" rpy="0 0 0"/>
        <parent link="RightShoulder_f1"/>
        <child link="RightShoulder_f2"/>
        <dynamics damping="0.1" friction="0.0"/>
        <limit effort="30" velocity="1.0" lower="-10.0" upper="10.0" />
        <axis xyz="0 1 0" />
    </joint>
    <joint name="jRightC7Shoulder_rotz" type="revolute">
        <origin xyz="0 0 0" rpy="0 0 0"/>
        <parent link="RightShoulder_f2"/>
        <child link="RightShoulder"/>
        <dynamics damping="0.1" friction="0.0"/>
        <limit effort="30" velocity="1.0" lower="-10.0" upper="10.0" />
        <axis xyz="0 0 1" />
    </joint>
	<joint name="jRightShoulder_rotx" type="revolute">
        <origin xyz="0    -0.13047           0" rpy="0 0 0"/>
        <parent link="RightShoulder"/>
        <child link="RightUpperArm_f1"/>
        <dynamics damping="0.1" friction="0.0"/>
        <limit effort="30" velocity="1.0" lower="-10.0" upper="10.0" />
        <axis xyz="1 0 0" />
    </joint>
	<joint name="jRightShoulder_roty" type="revolute">
        <origin xyz="0 0 0" rpy="0 0 0"/>
        <parent link="RightUpperArm_f1"/>
        <child link="RightUpperArm_f2"/>
        <dynamics damping="0.1" friction="0.0"/>
        <limit effort="30" velocity="1.0" lower="-10.0" upper="10.0" />
        <axis xyz="0 1 0" />
    </joint>
    <joint name="jRightShoulder_rotz" type="revolute">
        <origin xyz="0 0 0" rpy="0 0 0"/>
        <parent link="RightUpperArm_f2"/>
        <child link="RightUpperArm"/>
        <dynamics damping="0.1" friction="0.0"/>
        <limit effort="30" velocity="1.0" lower="-10.0" upper="10.0" />
        <axis xyz="0 0 1" />
    </joint>
	<joint name="jRightElbow_rotx" type="revolute">
        <origin xyz="0    -0.26994           0" rpy="0 0 0"/>
        <parent link="RightUpperArm"/>
        <child link="RightForeArm_f1"/>
        <dynamics damping="0.1" friction="0.0"/>
        <limit effort="30" velocity="1.0" lower="-10.0" upper="10.0" />
        <axis xyz="1 0 0" />
    </joint>
	<joint name="jRightElbow_roty" type="revolute">
        <origin xyz="0 0 0" rpy="0 0 0"/>
        <parent link="RightForeArm_f1"/>
        <child link="RightForeArm_f2"/>
        <dynamics damping="0.1" friction="0.0"/>
        <limit effort="30" velocity="1.0" lower="-10.0" upper="10.0" />
        <axis xyz="0 1 0" />
    </joint>
    <joint name="jRightElbow_rotz" type="revolute">
        <origin xyz="0 0 0" rpy="0 0 0"/>
        <parent link="RightForeArm_f2"/>
        <child link="RightForeArm"/>
        <dynamics damping="0.1" friction="0.0"/>
        <limit effort="30" velocity="1.0" lower="-10.0" upper="10.0" />
        <axis xyz="0 0 1" />
    </joint>
	<joint name="jRightWrist_rotx" type="revolute">
        <origin xyz="7.7e-05    -0.22247           0" rpy="0 0 0"/>
        <parent link="RightForeArm"/>
        <child link="RightHand_f1"/>
        <dynamics damping="0.1" friction="0.0"/>
        <limit effort="30" velocity="1.0" lower="-10.0" upper="10.0" />
        <axis xyz="1 0 0" />
    </joint>
	<joint name="jRightWrist_roty" type="revolute">
        <origin xyz="0 0 0" rpy="0 0 0"/>
        <parent link="RightHand_f1"/>
        <child link="RightHand_f2"/>
        <dynamics damping="0.1" friction="0.0"/>
        <limit effort="30" velocity="1.0" lower="-10.0" upper="10.0" />
        <axis xyz="0 1 0" />
    </joint>
    <joint name="jRightWrist_rotz" type="revolute">
        <origin xyz="0 0 0" rpy="0 0 0"/>
        <parent link="RightHand_f2"/>
        <child link="RightHand"/>
        <dynamics damping="0.1" friction="0.0"/>
        <limit effort="30" velocity="1.0" lower="-10.0" upper="10.0" />
        <axis xyz="0 0 1" />
    </joint>
	<!--Chain from (12) to (15)-->
	<joint name="jLeftC7Shoulder_rotx" type="revolute">
        <origin xyz="0    0.026313    0.067052" rpy="0 0 0"/>
        <parent link="T8"/>
        <child link="LeftShoulder_f1"/>
        <dynamics damping="0.1" friction="0.0"/>
        <limit effort="30" velocity="1.0" lower="-10.0" upper="10.0" />
        <axis xyz="1 0 0" />
    </joint>
	<joint name="jLeftC7Shoulder_roty" type="revolute">
        <origin xyz="0 0 0" rpy="0 0 0"/>
        <parent link="LeftShoulder_f1"/>
        <child link="LeftShoulder_f2"/>
        <dynamics damping="0.1" friction="0.0"/>
        <limit effort="30" velocity="1.0" lower="-10.0" upper="10.0" />
        <axis xyz="0 1 0" />
    </joint>
    <joint name="jLeftC7Shoulder_rotz" type="revolute">
        <origin xyz="0 0 0" rpy="0 0 0"/>
        <parent link="LeftShoulder_f2"/>
        <child link="LeftShoulder"/>
        <dynamics damping="0.1" friction="0.0"/>
        <limit effort="30" velocity="1.0" lower="-10.0" upper="10.0" />
        <axis xyz="0 0 1" />
    </joint>
	<joint name="jLeftShoulder_rotx" type="revolute">
        <origin xyz="0     0.13047           0" rpy="0 0 0"/>
        <parent link="LeftShoulder"/>
        <child link="LeftUpperArm_f1"/>
        <dynamics damping="0.1" friction="0.0"/>
        <limit effort="30" velocity="1.0" lower="-10.0" upper="10.0" />
        <axis xyz="1 0 0" />
    </joint>
	<joint name="jLeftShoulder_roty" type="revolute">
        <origin xyz="0 0 0" rpy="0 0 0"/>
        <parent link="LeftUpperArm_f1"/>
        <child link="LeftUpperArm_f2"/>
        <dynamics damping="0.1" friction="0.0"/>
        <limit effort="30" velocity="1.0" lower="-10.0" upper="10.0" />
        <axis xyz="0 1 0" />
    </joint>
    <joint name="jLeftShoulder_rotz" type="revolute">
        <origin xyz="0 0 0" rpy="0 0 0"/>
        <parent link="LeftUpperArm_f2"/>
        <child link="LeftUpperArm"/>
        <dynamics damping="0.1" friction="0.0"/>
        <limit effort="30" velocity="1.0" lower="-10.0" upper="10.0" />
        <axis xyz="0 0 1" />
    </joint>
    <joint name="jLeftElbow_rotx" type="revolute">
        <origin xyz="0     0.26994           0" rpy="0 0 0"/>
        <parent link="LeftUpperArm"/>
        <child link="LeftForeArm_f1"/>
        <dynamics damping="0.1" friction="0.0"/>
        <limit effort="30" velocity="1.0" lower="-10.0" upper="10.0" />
        <axis xyz="1 0 0" />
    </joint>
	<joint name="jLeftElbow_roty" type="revolute">
        <origin xyz="0 0 0" rpy="0 0 0"/>
        <parent link="LeftForeArm_f1"/>
        <child link="LeftForeArm_f2"/>
        <dynamics damping="0.1" friction="0.0"/>
        <limit effort="30" velocity="1.0" lower="-10.0" upper="10.0" />
        <axis xyz="0 1 0" />
    </joint>
    <joint name="jLeftElbow_rotz" type="revolute">
        <origin xyz="0 0 0" rpy="0 0 0"/>
        <parent link="LeftForeArm_f2"/>
        <child link="LeftForeArm"/>
        <dynamics damping="0.1" friction="0.0"/>
        <limit effort="30" velocity="1.0" lower="-10.0" upper="10.0" />
        <axis xyz="0 0 1" />
    </joint>
	<joint name="jLeftWrist_rotx" type="revolute">
        <origin xyz="7.7e-05     0.22247           0" rpy="0 0 0"/>
        <parent link="LeftForeArm"/>
        <child link="LeftHand_f1"/>
        <dynamics damping="0.1" friction="0.0"/>
        <limit effort="30" velocity="1.0" lower="-10.0" upper="10.0" />
        <axis xyz="1 0 0" />
    </joint>
	<joint name="jLeftWrist_roty" type="revolute">
        <origin xyz="0 0 0" rpy="0 0 0"/>
        <parent link="LeftHand_f1"/>
        <child link="LeftHand_f2"/>
        <dynamics damping="0.1" friction="0.0"/>
        <limit effort="30" velocity="1.0" lower="-10.0" upper="10.0" />
        <axis xyz="0 1 0" />
    </joint>
    <joint name="jLeftWrist_rotz" type="revolute">
        <origin xyz="0 0 0" rpy="0 0 0"/>
        <parent link="LeftHand_f2"/>
        <child link="LeftHand"/>
        <dynamics damping="0.1" friction="0.0"/>
        <limit effort="30" velocity="1.0" lower="-10.0" upper="10.0" />
        <axis xyz="0 0 1" />
    </joint>
	<!--Chain from (16) to (19)-->
	<joint name="jRightHip_rotx" type="revolute">
        <origin xyz="0.000103   -0.081614    0.001009" rpy="0 0 0"/>
        <parent link="Pelvis"/>
        <child link="RightUpperLeg_f1"/>
        <dynamics damping="0.1" friction="0.0"/>
        <limit effort="30" velocity="1.0" lower="-10.0" upper="10.0" />
        <axis xyz="1 0 0" />
    </joint>
	<joint name="jRightHip_roty" type="revolute">
        <origin xyz="0 0 0" rpy="0 0 0"/>
        <parent link="RightUpperLeg_f1"/>
        <child link="RightUpperLeg_f2"/>
        <dynamics damping="0.1" friction="0.0"/>
        <limit effort="30" velocity="1.0" lower="-10.0" upper="10.0" />
        <axis xyz="0 1 0" />
    </joint>
    <joint name="jRightHip_rotz" type="revolute">
        <origin xyz="0 0 0" rpy="0 0 0"/>
        <parent link="RightUpperLeg_f2"/>
        <child link="RightUpperLeg"/>
        <dynamics damping="0.1" friction="0.0"/>
        <limit effort="30" velocity="1.0" lower="-10.0" upper="10.0" />
        <axis xyz="0 0 1" />
    </joint>
	<joint name="jRightKnee_rotx" type="revolute">
        <origin xyz="3.6e-05           0    -0.44898" rpy="0 0 0"/>
        <parent link="RightUpperLeg"/>
        <child link="RightLowerLeg_f1"/>
        <dynamics damping="0.1" friction="0.0"/>
        <limit effort="30" velocity="1.0" lower="-10.0" upper="10.0" />
        <axis xyz="1 0 0" />
    </joint>
	<joint name="jRightKnee_roty" type="revolute">
        <origin xyz="0 0 0" rpy="0 0 0"/>
        <parent link="RightLowerLeg_f1"/>
        <child link="RightLowerLeg_f2"/>
        <dynamics damping="0.1" friction="0.0"/>
        <limit effort="30" velocity="1.0" lower="-10.0" upper="10.0" />
        <axis xyz="0 1 0" />
    </joint>
    <joint name="jRightKnee_rotz" type="revolute">
        <origin xyz="0 0 0" rpy="0 0 0"/>
        <parent link="RightLowerLeg_f2"/>
        <child link="RightLowerLeg"/>
        <dynamics damping="0.1" friction="0.0"/>
        <limit effort="30" velocity="1.0" lower="-10.0" upper="10.0" />
        <axis xyz="0 0 1" />
    </joint>
	<joint name="jRightAnkle_rotx" type="revolute">
        <origin xyz="0.000205           0    -0.40608" rpy="0 0 0"/>
        <parent link="RightLowerLeg"/>
        <child link="RightFoot_f1"/>
        <dynamics damping="0.1" friction="0.0"/>
        <limit effort="30" velocity="1.0" lower="-10.0" upper="10.0" />
        <axis xyz="1 0 0" />
    </joint>
	<joint name="jRightAnkle_roty" type="revolute">
        <origin xyz="0 0 0" rpy="0 0 0"/>
        <parent link="RightFoot_f1"/>
        <child link="RightFoot_f2"/>
        <dynamics damping="0.1" friction="0.0"/>
        <limit effort="30" velocity="1.0" lower="-10.0" upper="10.0" />
        <axis xyz="0 1 0" />
    </joint>
    <joint name="jRightAnkle_rotz" type="revolute">
        <origin xyz="0 0 0" rpy="0 0 0"/>
        <parent link="RightFoot_f2"/>
        <child link="RightFoot"/>
        <dynamics damping="0.1" friction="0.0"/>
        <limit effort="30" velocity="1.0" lower="-10.0" upper="10.0" />
        <axis xyz="0 0 1" />
    </joint>
	<joint name="jRightBallFoot_rotx" type="revolute">
        <origin xyz="0.14456           0   -0.064752" rpy="0 0 0"/>
        <parent link="RightFoot"/>
        <child link="RightToe_f1"/>
        <dynamics damping="0.1" friction="0.0"/>
        <limit effort="30" velocity="1.0" lower="-10.0" upper="10.0" />
        <axis xyz="1 0 0" />
    </joint>
	<joint name="jRightBallFoot_roty" type="revolute">
        <origin xyz="0 0 0" rpy="0 0 0"/>
        <parent link="RightToe_f1"/>
        <child link="RightToe_f2"/>
        <dynamics damping="0.1" friction="0.0"/>
        <limit effort="30" velocity="1.0" lower="-10.0" upper="10.0" />
        <axis xyz="0 1 0" />
    </joint>
    <joint name="jRightBallFoot_rotz" type="revolute">
        <origin xyz="0 0 0" rpy="0 0 0"/>
        <parent link="RightToe_f2"/>
        <child link="RightToe"/>
        <dynamics damping="0.1" friction="0.0"/>
        <limit effort="30" velocity="1.0" lower="-10.0" upper="10.0" />
        <axis xyz="0 0 1" />
    </joint>
	<!--Chain from (20) to (23)-->
	<joint name="jLeftHip_rotx" type="revolute">
        <origin xyz="0.000103    0.081614    0.001009" rpy="0 0 0"/>
        <parent link="Pelvis"/>
        <child link="LeftUpperLeg_f1"/>
        <dynamics damping="0.1" friction="0.0"/>
        <limit effort="30" velocity="1.0" lower="-10.0" upper="10.0" />
        <axis xyz="1 0 0" />
    </joint>
	<joint name="jLeftHip_roty" type="revolute">
        <origin xyz="0 0 0" rpy="0 0 0"/>
        <parent link="LeftUpperLeg_f1"/>
        <child link="LeftUpperLeg_f2"/>
        <dynamics damping="0.1" friction="0.0"/>
        <limit effort="30" velocity="1.0" lower="-10.0" upper="10.0" />
        <axis xyz="0 1 0" />
    </joint>
    <joint name="jLeftHip_rotz" type="revolute">
        <origin xyz="0 0 0" rpy="0 0 0"/>
        <parent link="LeftUpperLeg_f2"/>
        <child link="LeftUpperLeg"/>
        <dynamics damping="0.1" friction="0.0"/>
        <limit effort="30" velocity="1.0" lower="-10.0" upper="10.0" />
        <axis xyz="0 0 1" />
    </joint>
	<joint name="jLeftKnee_rotx" type="revolute">
        <origin xyz="3.6e-05           0    -0.44898" rpy="0 0 0"/>
        <parent link="LeftUpperLeg"/>
        <child link="LeftLowerLeg_f1"/>
        <dynamics damping="0.1" friction="0.0"/>
        <limit effort="30" velocity="1.0" lower="-10.0" upper="10.0" />
        <axis xyz="1 0 0" />
    </joint>
	<joint name="jLeftKnee_roty" type="revolute">
        <origin xyz="0 0 0" rpy="0 0 0"/>
        <parent link="LeftLowerLeg_f1"/>
        <child link="LeftLowerLeg_f2"/>
        <dynamics damping="0.1" friction="0.0"/>
        <limit effort="30" velocity="1.0" lower="-10.0" upper="10.0" />
        <axis xyz="0 1 0" />
    </joint>
    <joint name="jLeftKnee_rotz" type="revolute">
        <origin xyz="0 0 0" rpy="0 0 0"/>
        <parent link="LeftLowerLeg_f2"/>
        <child link="LeftLowerLeg"/>
        <dynamics damping="0.1" friction="0.0"/>
        <limit effort="30" velocity="1.0" lower="-10.0" upper="10.0" />
        <axis xyz="0 0 1" />
    </joint>
	<joint name="jLeftAnkle_rotx" type="revolute">
        <origin xyz="0.000205           0    -0.40608" rpy="0 0 0"/>
        <parent link="LeftLowerLeg"/>
        <child link="LeftFoot_f1"/>
        <dynamics damping="0.1" friction="0.0"/>
        <limit effort="30" velocity="1.0" lower="-10.0" upper="10.0" />
        <axis xyz="1 0 0" />
    </joint>
	<joint name="jLeftAnkle_roty" type="revolute">
        <origin xyz="0 0 0" rpy="0 0 0"/>
        <parent link="LeftFoot_f1"/>
        <child link="LeftFoot_f2"/>
        <dynamics damping="0.1" friction="0.0"/>
        <limit effort="30" velocity="1.0" lower="-10.0" upper="10.0" />
        <axis xyz="0 1 0" />
    </joint>
    <joint name="jLeftAnkle_rotz" type="revolute">
        <origin xyz="0 0 0" rpy="0 0 0"/>
        <parent link="LeftFoot_f2"/>
        <child link="LeftFoot"/>
        <dynamics damping="0.1" friction="0.0"/>
        <limit effort="30" velocity="1.0" lower="-10.0" upper="10.0" />
        <axis xyz="0 0 1" />
    </joint>
	<joint name="jLeftBallFoot_rotx" type="revolute">
        <origin xyz="0.14456           0   -0.064752" rpy="0 0 0"/>
        <parent link="LeftFoot"/>
        <child link="LeftToe_f1"/>
        <dynamics damping="0.1" friction="0.0"/>
        <limit effort="30" velocity="1.0" lower="-10.0" upper="10.0" />
        <axis xyz="1 0 0" />
    </joint>
	<joint name="jLeftBallFoot_roty" type="revolute">
        <origin xyz="0 0 0" rpy="0 0 0"/>
        <parent link="LeftToe_f1"/>
        <child link="LeftToe_f2"/>
        <dynamics damping="0.1" friction="0.0"/>
        <limit effort="30" velocity="1.0" lower="-10.0" upper="10.0" />
        <axis xyz="0 1 0" />
    </joint>
    <joint name="jLeftBallFoot_rotz" type="revolute">
        <origin xyz="0 0 0" rpy="0 0 0"/>
        <parent link="LeftToe_f2"/>
        <child link="LeftToe"/>
        <dynamics damping="0.1" friction="0.0"/>
        <limit effort="30" velocity="1.0" lower="-10.0" upper="10.0" />
        <axis xyz="0 0 1" />
    </joint>

	<!-- Sensor  1-->
<sensor name="Pelvis_gyro" type="gyroscope">
<parent link="Pelvis"/>
<origin xyz="-0.056756 -5.6944e-06    0.097055" rpy="-0.3247     0.95826      2.4984"/>
</sensor>
<sensor name="Pelvis_accelerometer" type="accelerometer">
<parent link="Pelvis"/>
<origin xyz="-0.056756 -5.6944e-06    0.097055" rpy="-0.3247     0.95826      2.4984"/>
</sensor>
<!-- Sensor  2-->
<sensor name="T8_gyro" type="gyroscope">
<parent link="T8"/>
<origin xyz="0.1256  2.9265e-07    0.069079" rpy="0.054662      1.1921    0.026605"/>
</sensor>
<sensor name="T8_accelerometer" type="accelerometer">
<parent link="T8"/>
<origin xyz="0.1256  2.9265e-07    0.069079" rpy="0.054662      1.1921    0.026605"/>
</sensor>
<!-- Sensor  3-->
<sensor name="Head_gyro" type="gyroscope">
<parent link="Head"/>
<origin xyz="-0.069574  4.0118e-07    0.076475" rpy="2.3602    0.029132     -1.6926"/>
</sensor>
<sensor name="Head_accelerometer" type="accelerometer">
<parent link="Head"/>
<origin xyz="-0.069574  4.0118e-07    0.076475" rpy="2.3602    0.029132     -1.6926"/>
</sensor>
<!-- Sensor  4-->
<sensor name="RightShoulder_gyro" type="gyroscope">
<parent link="RightShoulder"/>
<origin xyz="-0.018859   -0.047148   -0.056578" rpy="1.3372    -0.28335     -1.4594"/>
</sensor>
<sensor name="RightShoulder_accelerometer" type="accelerometer">
<parent link="RightShoulder"/>
<origin xyz="-0.018859   -0.047148   -0.056578" rpy="1.3372    -0.28335     -1.4594"/>
</sensor>
<!-- Sensor  5-->
<sensor name="RightUpperArm_gyro" type="gyroscope">
<parent link="RightUpperArm"/>
<origin xyz="-0.018123   -0.090613    0.018123" rpy="-0.15226    0.030142     -1.5884"/>
</sensor>
<sensor name="RightUpperArm_accelerometer" type="accelerometer">
<parent link="RightUpperArm"/>
<origin xyz="-0.018123   -0.090613    0.018123" rpy="-0.15226    0.030142     -1.5884"/>
</sensor>
<!-- Sensor  6-->
<sensor name="RightForeArm_gyro" type="gyroscope">
<parent link="RightForeArm"/>
<origin xyz="0.0016793    -0.18323      0.0183" rpy="-1.1132    0.015024     -1.2543"/>
</sensor>
<sensor name="RightForeArm_accelerometer" type="accelerometer">
<parent link="RightForeArm"/>
<origin xyz="0.0016793    -0.18323      0.0183" rpy="-1.1132    0.015024     -1.2543"/>
</sensor>
<!-- Sensor  7-->
<sensor name="RightHand_gyro" type="gyroscope">
<parent link="RightHand"/>
<origin xyz="-3.4565e-08   -0.050814    0.018478" rpy="-0.69083   -0.053849     -1.4329"/>
</sensor>
<sensor name="RightHand_accelerometer" type="accelerometer">
<parent link="RightHand"/>
<origin xyz="-3.4565e-08   -0.050814    0.018478" rpy="-0.69083   -0.053849     -1.4329"/>
</sensor>
<!-- Sensor  8-->
<sensor name="LeftShoulder_gyro" type="gyroscope">
<parent link="LeftShoulder"/>
<origin xyz="-0.018859    0.047148   -0.056578" rpy="-1.1487    -0.34419      1.3655"/>
</sensor>
<sensor name="LeftShoulder_accelerometer" type="accelerometer">
<parent link="LeftShoulder"/>
<origin xyz="-0.018859    0.047148   -0.056578" rpy="-1.1487    -0.34419      1.3655"/>
</sensor>
<!-- Sensor  9-->
<sensor name="LeftUpperArm_gyro" type="gyroscope">
<parent link="LeftUpperArm"/>
<origin xyz="-0.018123    0.090613    0.018123" rpy="0.094373   -0.042991      1.6861"/>
</sensor>
<sensor name="LeftUpperArm_accelerometer" type="accelerometer">
<parent link="LeftUpperArm"/>
<origin xyz="-0.018123    0.090613    0.018123" rpy="0.094373   -0.042991      1.6861"/>
</sensor>
<!-- Sensor  10-->
<sensor name="LeftForeArm_gyro" type="gyroscope">
<parent link="LeftForeArm"/>
<origin xyz="0.0016791     0.18323    0.018301" rpy="0.90429     0.18107      1.1351"/>
</sensor>
<sensor name="LeftForeArm_accelerometer" type="accelerometer">
<parent link="LeftForeArm"/>
<origin xyz="0.0016791     0.18323    0.018301" rpy="0.90429     0.18107      1.1351"/>
</sensor>
<!-- Sensor  11-->
<sensor name="LeftHand_gyro" type="gyroscope">
<parent link="LeftHand"/>
<origin xyz="1.1198e-08    0.050814    0.018478" rpy="1.2175   -0.077786      1.3837"/>
</sensor>
<sensor name="LeftHand_accelerometer" type="accelerometer">
<parent link="LeftHand"/>
<origin xyz="1.1198e-08    0.050814    0.018478" rpy="1.2175   -0.077786      1.3837"/>
</sensor>
<!-- Sensor  12-->
<sensor name="RightUpperLeg_gyro" type="gyroscope">
<parent link="RightUpperLeg"/>
<origin xyz="0.012972    -0.04567    -0.26981" rpy="2.8247      1.4102      1.8304"/>
</sensor>
<sensor name="RightUpperLeg_accelerometer" type="accelerometer">
<parent link="RightUpperLeg"/>
<origin xyz="0.012972    -0.04567    -0.26981" rpy="2.8247      1.4102      1.8304"/>
</sensor>
<!-- Sensor  13-->
<sensor name="RightLowerLeg_gyro" type="gyroscope">
<parent link="RightLowerLeg"/>
<origin xyz="0.030805   0.0070514    -0.13253" rpy="-2.9287      1.4733     -1.9582"/>
</sensor>
<sensor name="RightLowerLeg_accelerometer" type="accelerometer">
<parent link="RightLowerLeg"/>
<origin xyz="0.030805   0.0070514    -0.13253" rpy="-2.9287      1.4733     -1.9582"/>
</sensor>
<!-- Sensor  14-->
<sensor name="RightFoot_gyro" type="gyroscope">
<parent link="RightFoot"/>
<origin xyz="0.083701   0.0013928   -0.011817" rpy="0.30301     0.49685    -0.19697"/>
</sensor>
<sensor name="RightFoot_accelerometer" type="accelerometer">
<parent link="RightFoot"/>
<origin xyz="0.083701   0.0013928   -0.011817" rpy="0.30301     0.49685    -0.19697"/>
</sensor>
<!-- Sensor  15-->
<sensor name="LeftUpperLeg_gyro" type="gyroscope">
<parent link="LeftUpperLeg"/>
<origin xyz="0.012973     0.04567    -0.26981" rpy="-2.3214      1.4159     -1.1979"/>
</sensor>
<sensor name="LeftUpperLeg_accelerometer" type="accelerometer">
<parent link="LeftUpperLeg"/>
<origin xyz="0.012973     0.04567    -0.26981" rpy="-2.3214      1.4159     -1.1979"/>
</sensor>
<!-- Sensor  16-->
<sensor name="LeftLowerLeg_gyro" type="gyroscope">
<parent link="LeftLowerLeg"/>
<origin xyz="0.030805  -0.0070515    -0.13253" rpy="-2.6156      1.3817      2.7867"/>
</sensor>
<sensor name="LeftLowerLeg_accelerometer" type="accelerometer">
<parent link="LeftLowerLeg"/>
<origin xyz="0.030805  -0.0070515    -0.13253" rpy="-2.6156      1.3817      2.7867"/>
</sensor>
<!-- Sensor  17-->
<sensor name="LeftFoot_gyro" type="gyroscope">
<parent link="LeftFoot"/>
<origin xyz="0.083701  -0.0013929   -0.011817" rpy="-0.10862      0.4501     0.37976"/>
</sensor>
<sensor name="LeftFoot_accelerometer" type="accelerometer">
<parent link="LeftFoot"/>
<origin xyz="0.083701  -0.0013929   -0.011817" rpy="-0.10862      0.4501     0.37976"/>
</sensor>


</robot>
